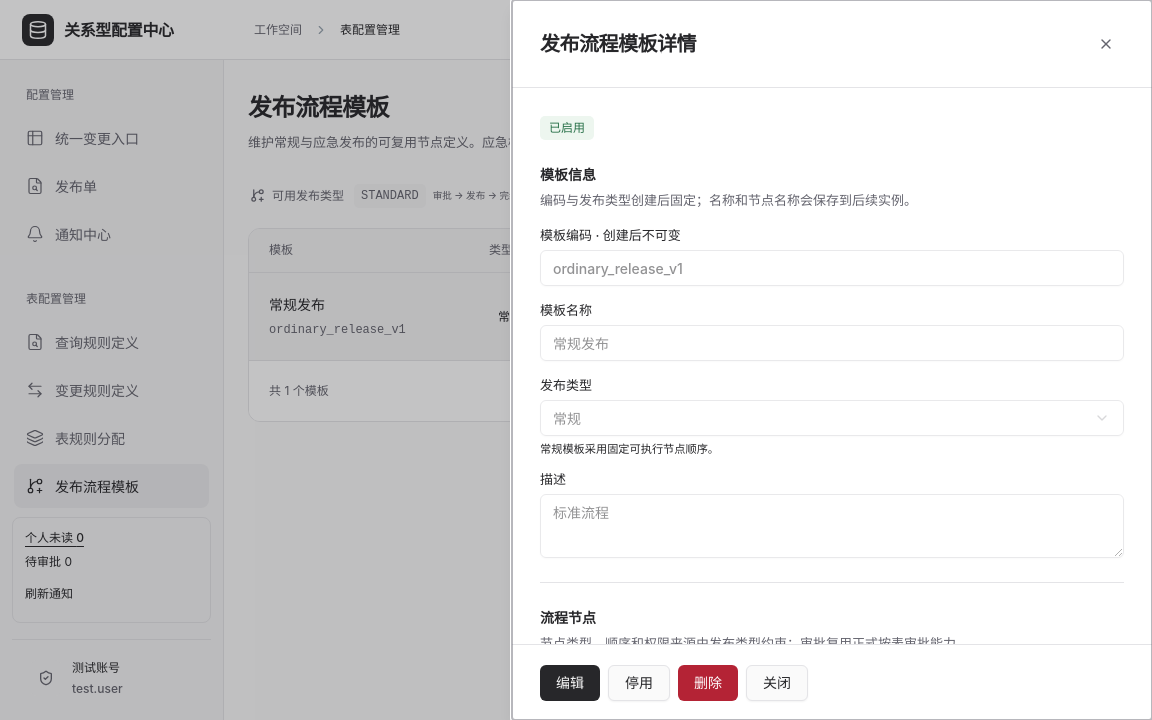
Test: 发布流程模板页面 › uses the shared confirmation dialog and focuses cancel before disabling a standard template
The image size is (1152, 720).
Click the button "停用": (639, 682) [608,664,670,700]
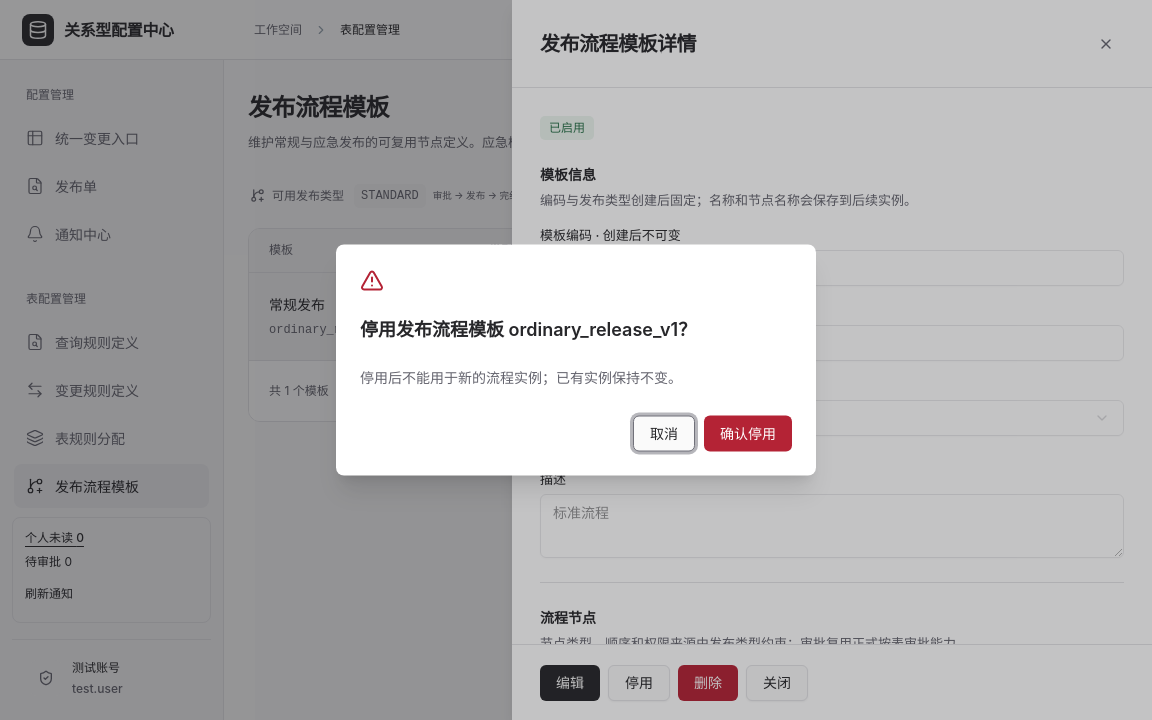
Now the dialog "停用发布流程模板" is shown, box [336,244,816,476]
